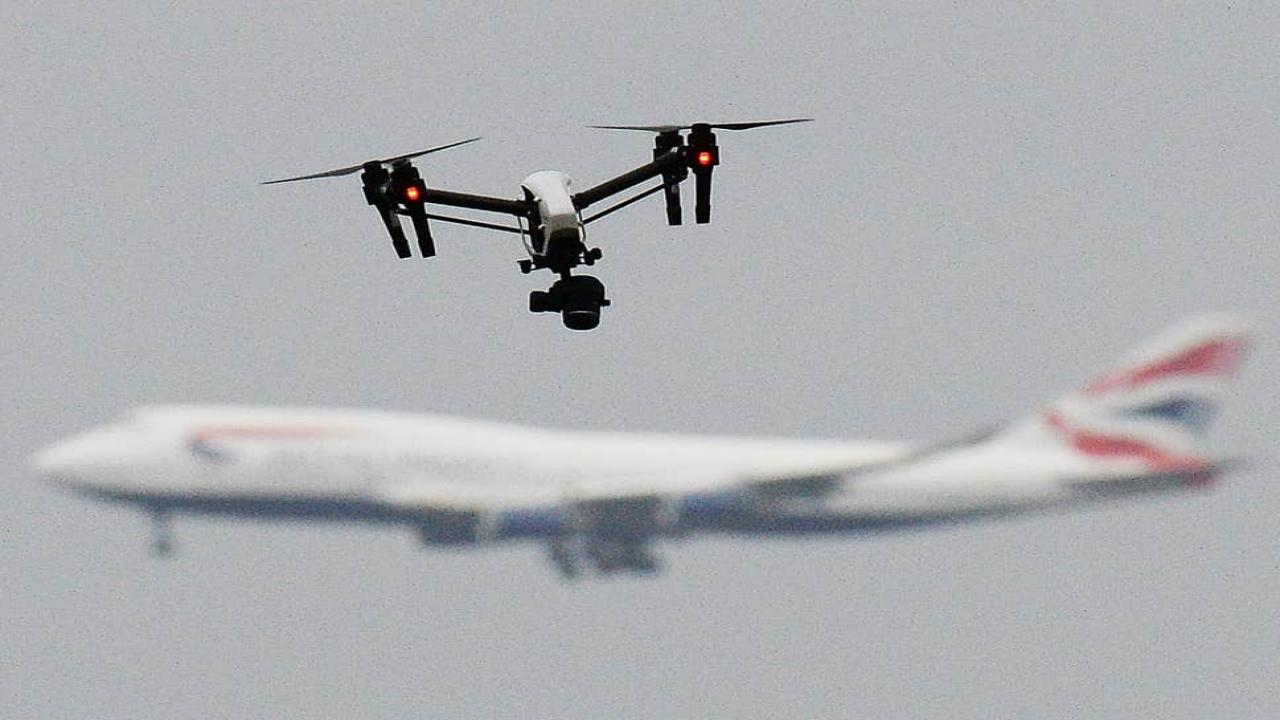Airplane: (21, 311, 1280, 593)
Drone: (243, 106, 828, 338)
